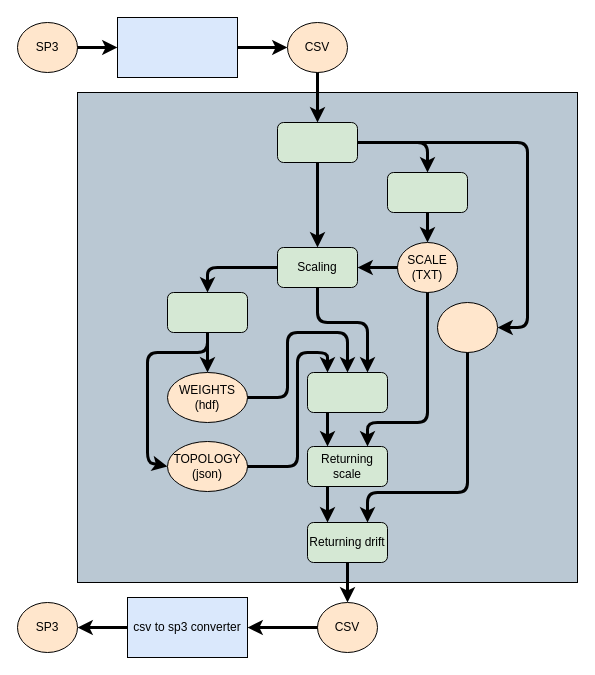
Some shapes in this 595 by 675 pixel diagram are drawn without their labels. The centre of each missing label's shape, as x and y in pixels:
OFFSET (TXT): the point at 467,327
Prediction: the point at 347,392
Scale estimation: the point at 427,192
sp3 to csv converter: the point at 177,47
Stabilization: the point at 317,142
Training: the point at 207,312
